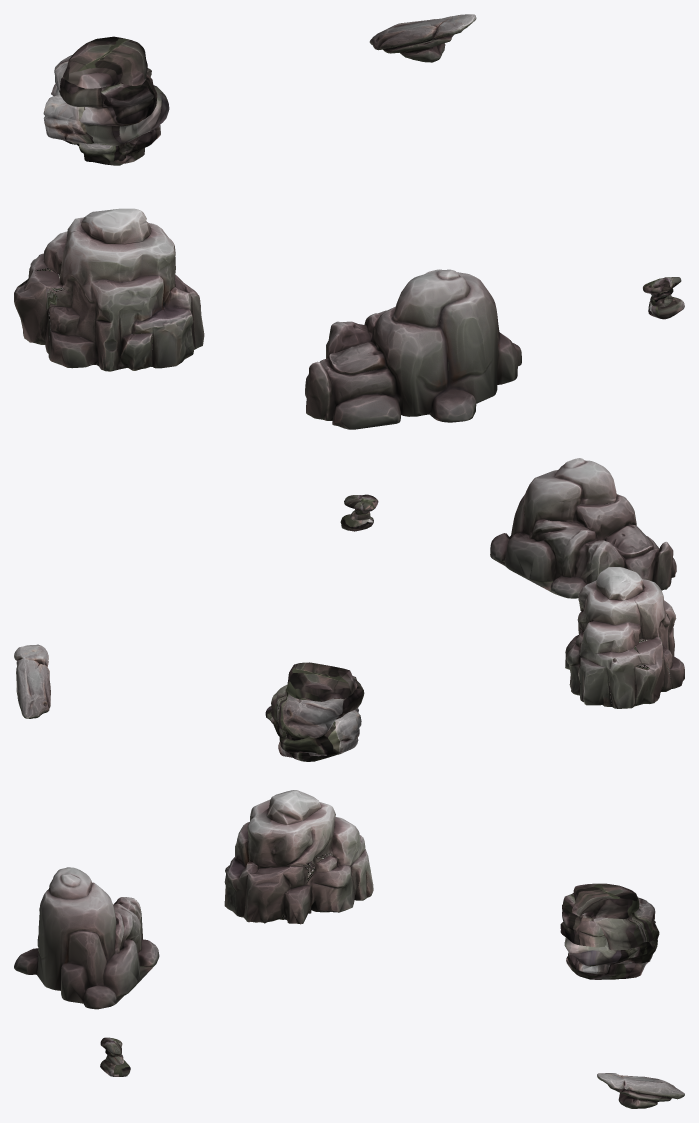
File: Stylized-Rocks-3.fbx
3 views of the same model, one above another, from view 1: azimuth 30°, elevation 25°; view 2: azimuth 150°, elevation 25°; view 3: azimuth 270°, elevation 25° (orthographic). The views are drawn at different scales.
Visible parts, largest first — view 1: Big_2_BiG_0, Big_3_BiG_0, Mid_1_MID_0, Big_5_BiG_0, Mid_5_MID_0; view 2: Big_2_BiG_0, Big_3_BiG_0, Mid_1_MID_0, Big_5_BiG_0, Mid_5_MID_0; view 3: Big_3_BiG_0, Big_2_BiG_0, Mid_1_MID_0, Big_5_BiG_0, Mid_5_MID_0.
Boxes of the visible parts, x1,y1,x2,y2 form: Big_2_BiG_0: (305, 269, 521, 429); Big_3_BiG_0: (14, 208, 204, 371); Mid_1_MID_0: (43, 36, 169, 165); Big_5_BiG_0: (369, 14, 476, 62); Mid_5_MID_0: (643, 277, 684, 319); Big_2_BiG_0: (490, 458, 676, 598); Big_3_BiG_0: (565, 567, 684, 708); Mid_1_MID_0: (265, 662, 364, 761); Big_5_BiG_0: (14, 644, 50, 718); Mid_5_MID_0: (340, 494, 378, 531); Big_3_BiG_0: (224, 790, 373, 924); Big_2_BiG_0: (14, 867, 159, 1009); Mid_1_MID_0: (560, 883, 659, 979); Big_5_BiG_0: (597, 1073, 684, 1108); Mid_5_MID_0: (100, 1037, 130, 1076).
Bounding box in the file's own units: 1075 × 211 × 1220.
Materials: 2 (2 with a texture image).
